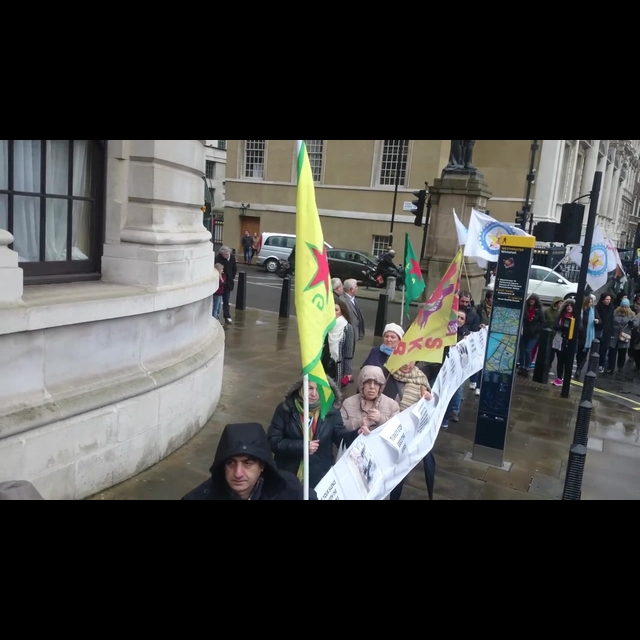YPG: (288, 139, 348, 422)
YPJ: (399, 231, 430, 324)
